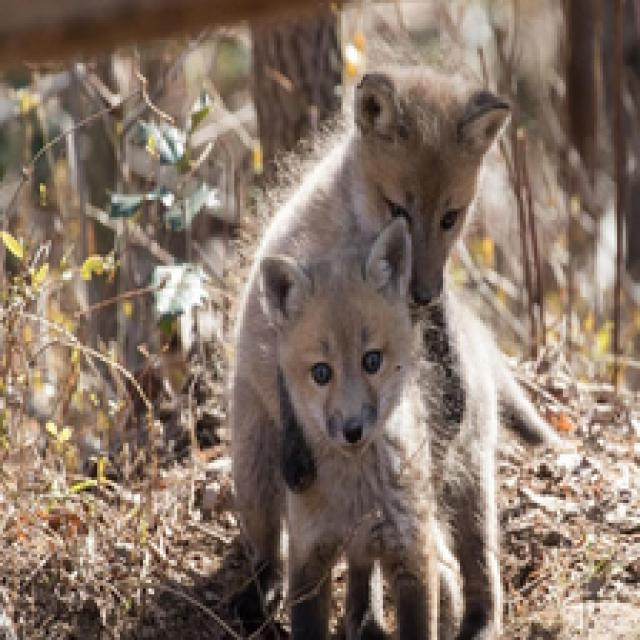fox: (240, 57, 563, 640), (249, 247, 526, 640)
